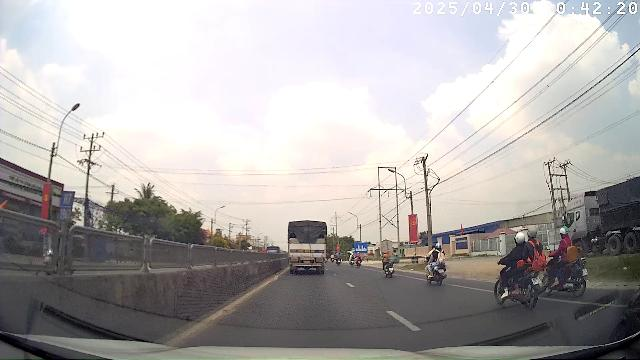420-bat-dau-khu-dong-dan-cu: (354, 243, 367, 253)
